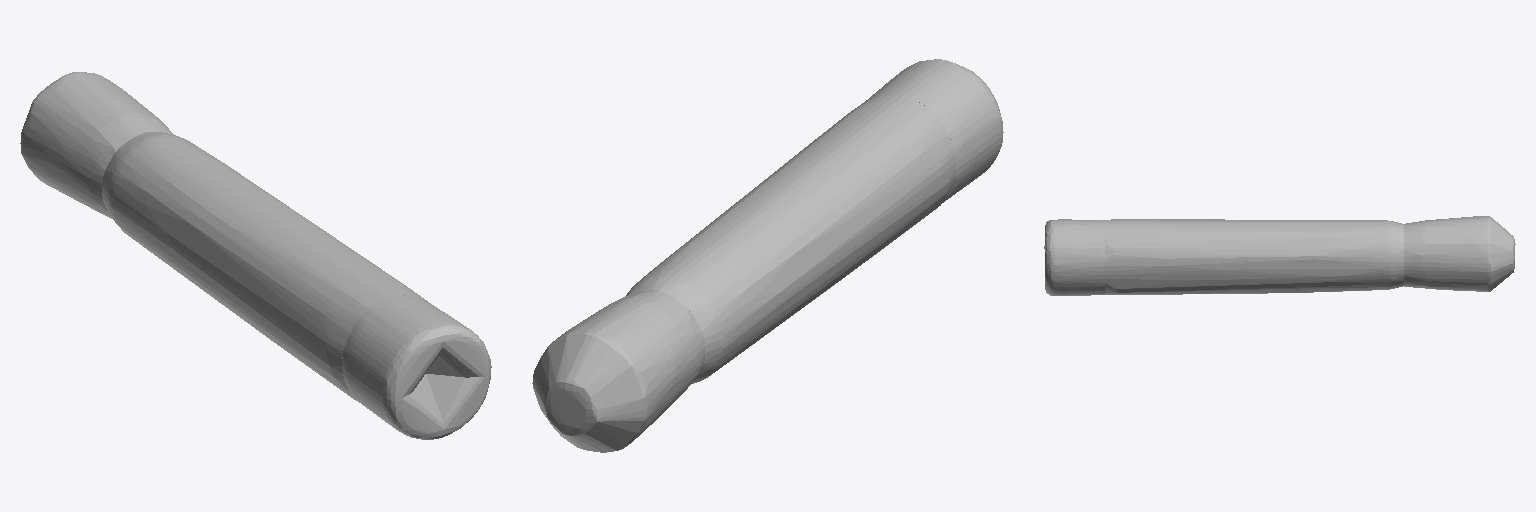
robot.urdf — root:
<robot name="root"><link name="body"><visual>
      <origin xyz="0 0 0" rpy="0 0 0" />
      <geometry>
        <mesh filename="coacd_convex_piece_0.obj" scale="1.0000E+00 1.0000E+00 1.0000E+00" />
      </geometry>
      <material name="">
        <color rgba="7.50E-01 7.50E-01 7.50E-01 1" />
      </material>
    </visual>
    <collision>
      <origin xyz="0 0 0" rpy="0 0 0" />
      <geometry>
        <mesh filename="coacd_convex_piece_0.obj" scale="1.0000E+00 1.0000E+00 1.0000E+00" />
      </geometry>
    </collision>
  <visual>
      <origin xyz="0 0 0" rpy="0 0 0" />
      <geometry>
        <mesh filename="coacd_convex_piece_1.obj" scale="1.0000E+00 1.0000E+00 1.0000E+00" />
      </geometry>
      <material name="">
        <color rgba="7.50E-01 7.50E-01 7.50E-01 1" />
      </material>
    </visual>
    <collision>
      <origin xyz="0 0 0" rpy="0 0 0" />
      <geometry>
        <mesh filename="coacd_convex_piece_1.obj" scale="1.0000E+00 1.0000E+00 1.0000E+00" />
      </geometry>
    </collision>
  <visual>
      <origin xyz="0 0 0" rpy="0 0 0" />
      <geometry>
        <mesh filename="coacd_convex_piece_2.obj" scale="1.0000E+00 1.0000E+00 1.0000E+00" />
      </geometry>
      <material name="">
        <color rgba="7.50E-01 7.50E-01 7.50E-01 1" />
      </material>
    </visual>
    <collision>
      <origin xyz="0 0 0" rpy="0 0 0" />
      <geometry>
        <mesh filename="coacd_convex_piece_2.obj" scale="1.0000E+00 1.0000E+00 1.0000E+00" />
      </geometry>
    </collision>
  <visual>
      <origin xyz="0 0 0" rpy="0 0 0" />
      <geometry>
        <mesh filename="coacd_convex_piece_3.obj" scale="1.0000E+00 1.0000E+00 1.0000E+00" />
      </geometry>
      <material name="">
        <color rgba="7.50E-01 7.50E-01 7.50E-01 1" />
      </material>
    </visual>
    <collision>
      <origin xyz="0 0 0" rpy="0 0 0" />
      <geometry>
        <mesh filename="coacd_convex_piece_3.obj" scale="1.0000E+00 1.0000E+00 1.0000E+00" />
      </geometry>
    </collision>
  <visual>
      <origin xyz="0 0 0" rpy="0 0 0" />
      <geometry>
        <mesh filename="coacd_convex_piece_4.obj" scale="1.0000E+00 1.0000E+00 1.0000E+00" />
      </geometry>
      <material name="">
        <color rgba="7.50E-01 7.50E-01 7.50E-01 1" />
      </material>
    </visual>
    <collision>
      <origin xyz="0 0 0" rpy="0 0 0" />
      <geometry>
        <mesh filename="coacd_convex_piece_4.obj" scale="1.0000E+00 1.0000E+00 1.0000E+00" />
      </geometry>
    </collision>
  <visual>
      <origin xyz="0 0 0" rpy="0 0 0" />
      <geometry>
        <mesh filename="coacd_convex_piece_5.obj" scale="1.0000E+00 1.0000E+00 1.0000E+00" />
      </geometry>
      <material name="">
        <color rgba="7.50E-01 7.50E-01 7.50E-01 1" />
      </material>
    </visual>
    <collision>
      <origin xyz="0 0 0" rpy="0 0 0" />
      <geometry>
        <mesh filename="coacd_convex_piece_5.obj" scale="1.0000E+00 1.0000E+00 1.0000E+00" />
      </geometry>
    </collision>
  </link></robot>

--- What the picture shows (computed from the rendered views, not written in the file) ---
Views: 3 orthographic renders of the robot side by side, from view 1: azimuth 30°, elevation 25°; view 2: azimuth 150°, elevation 25°; view 3: azimuth 270°, elevation 25°.
Robot: root — 1 links, 0 joints (none); root link body; default pose: every joint at zero.
Visible links, largest first — view 1: body; view 2: body; view 3: body.
Boxes of the visible links, x1,y1,x2,y2 form: body: (20,72,491,439); body: (532,59,1003,452); body: (1044,216,1515,295).
Size in the robot's own frame: 0.3537 by 1.95 by 0.3183 metres.
Meshes: 6 distinct files referenced, 6 mesh visuals loaded (6 OBJ).